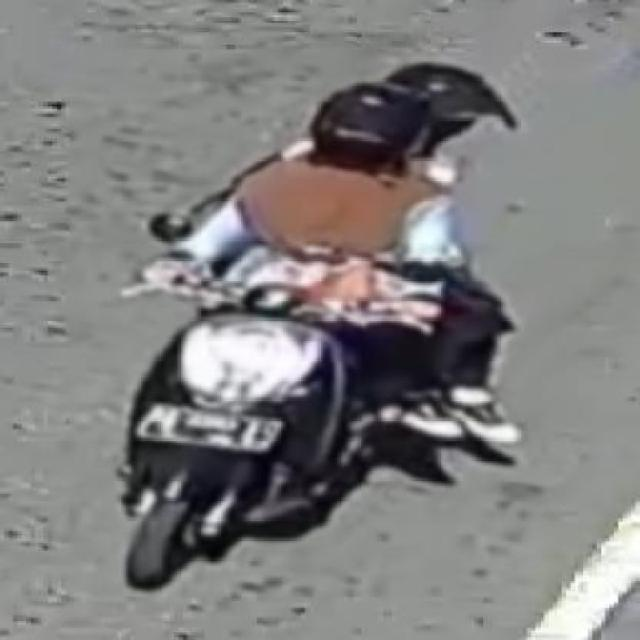helmet: (245, 66, 422, 200), (376, 17, 527, 153)
motorcycle: (85, 37, 580, 598)
